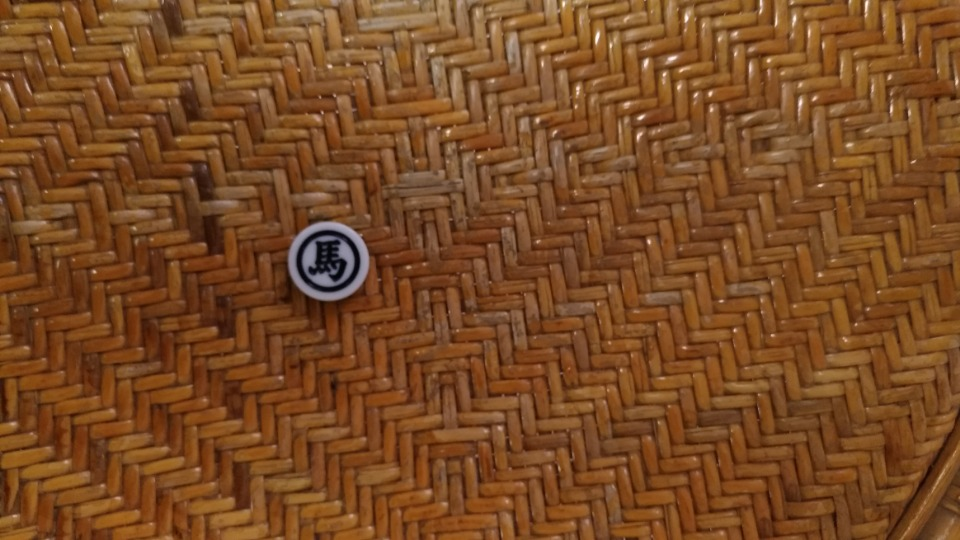b-knight: (267, 213, 407, 317)
